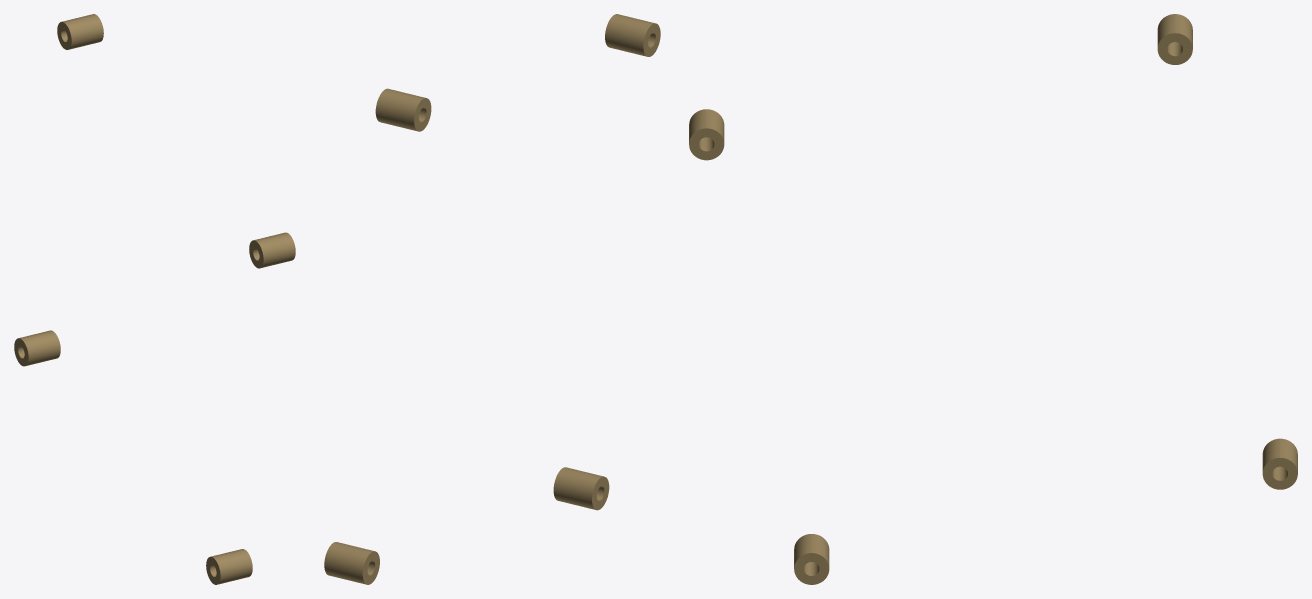
The model's file is locator.glb.
3 views of the same model, side by side, from view 1: azimuth 30°, elevation 25°; view 2: azimuth 150°, elevation 25°; view 3: azimuth 270°, elevation 25° (orthographic). The views are drawn at different scales.
Parts seen in each view (by area): view 1: locator-02, locator-03, locator-00, locator-01; view 2: locator-00, locator-01, locator-02, locator-03; view 3: locator-02, locator-03, locator-00, locator-01.
Part boxes in pixels (x1,y1,x2,y2): locator-02: (249, 232, 295, 268); locator-03: (14, 330, 60, 366); locator-00: (206, 549, 252, 584); locator-01: (57, 14, 103, 49); locator-00: (553, 467, 609, 510); locator-01: (375, 88, 431, 131); locator-02: (605, 14, 660, 56); locator-03: (324, 542, 379, 584); locator-02: (689, 109, 724, 160); locator-03: (1262, 438, 1297, 489); locator-00: (794, 534, 829, 584); locator-01: (1157, 14, 1192, 64).
Bounding box in the file's own units: 18 × 242 × 242.
